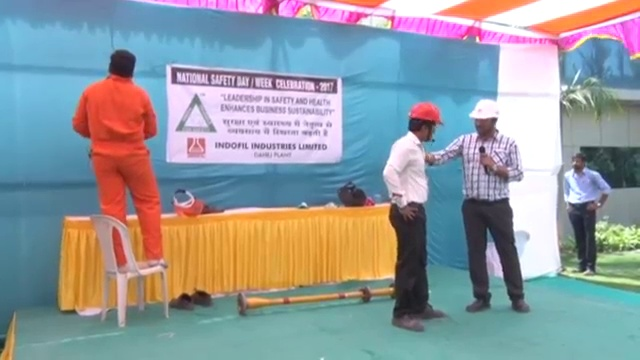helmet: (407, 100, 447, 127), (468, 96, 501, 121)
helmet_off: (106, 48, 138, 79), (570, 150, 586, 174)
helmet_on: (403, 100, 444, 144), (466, 96, 502, 139)
person: (422, 95, 532, 315), (70, 48, 171, 269), (379, 100, 446, 334), (560, 150, 611, 278)
